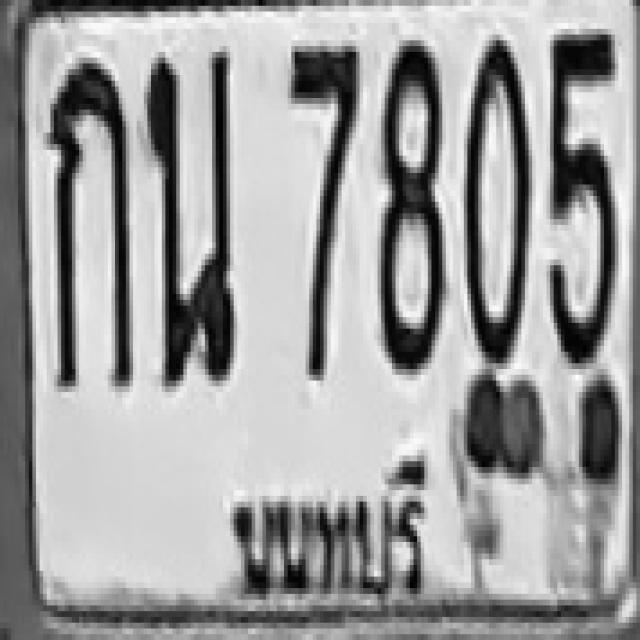0: (462, 35, 530, 369)
10GorGai: (47, 58, 133, 392)
34NorNu: (146, 49, 236, 383), (144, 49, 234, 355), (149, 116, 236, 387)
5: (546, 29, 615, 363)
7: (288, 43, 360, 372), (288, 41, 360, 334), (288, 40, 360, 277)
8: (377, 37, 446, 372)
Nonthaburi: (223, 446, 434, 605)
